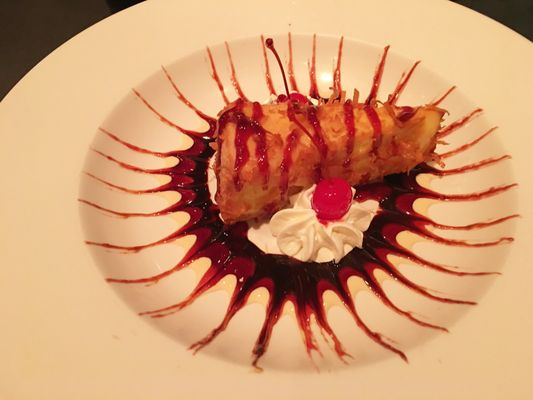curry: (0, 1, 520, 400)
sushi: (210, 88, 446, 260)
